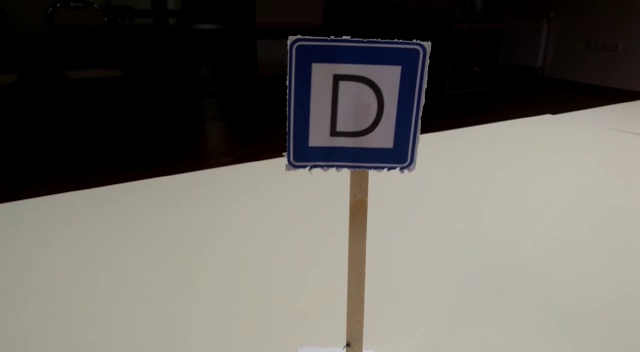durak: (283, 43, 430, 170)
